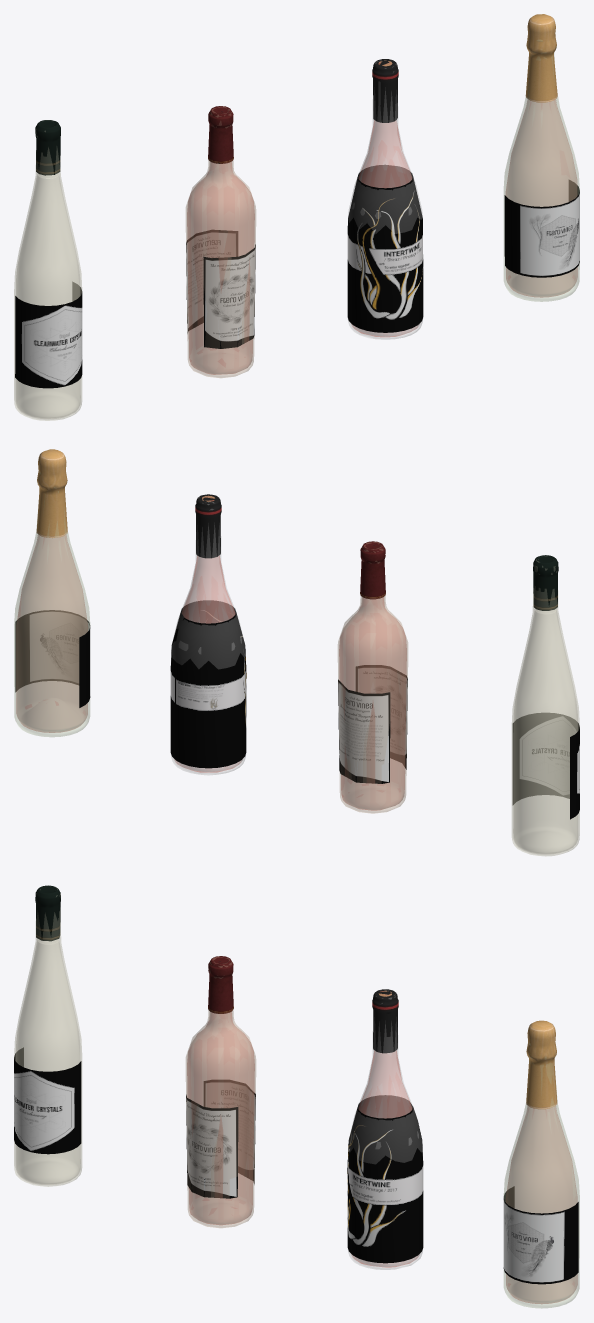
Rendered from wine_bottles_01_lod2.glb.
3 views of the same model, one above another, from view 1: azimuth 30°, elevation 25°; view 2: azimuth 150°, elevation 25°; view 3: azimuth 330°, elevation 25° (orthographic).
Parts seen in each view (by area): view 1: wine_bottles_01_champagne, wine_bottles_01_alsace, wine_bottles_01_burgundy, wine_bottles_01_bordeaux; view 2: wine_bottles_01_champagne, wine_bottles_01_alsace, wine_bottles_01_burgundy, wine_bottles_01_bordeaux; view 3: wine_bottles_01_champagne, wine_bottles_01_alsace, wine_bottles_01_burgundy, wine_bottles_01_bordeaux.
Boxes of the visible parts, x1,y1,x2,y2 form: wine_bottles_01_champagne: [504, 14, 579, 301]; wine_bottles_01_alsace: [14, 120, 82, 420]; wine_bottles_01_burgundy: [347, 59, 423, 339]; wine_bottles_01_bordeaux: [186, 106, 255, 377]; wine_bottles_01_champagne: [14, 449, 90, 736]; wine_bottles_01_alsace: [512, 555, 579, 856]; wine_bottles_01_burgundy: [170, 494, 246, 775]; wine_bottles_01_bordeaux: [338, 541, 407, 813]; wine_bottles_01_champagne: [503, 1020, 579, 1308]; wine_bottles_01_alsace: [14, 885, 81, 1186]; wine_bottles_01_burgundy: [347, 989, 423, 1269]; wine_bottles_01_bordeaux: [186, 956, 255, 1227].
Bounding box in the file's own units: 0.6763 × 0.3314 × 0.0805.
Materials: 12 (9 with a texture image).
